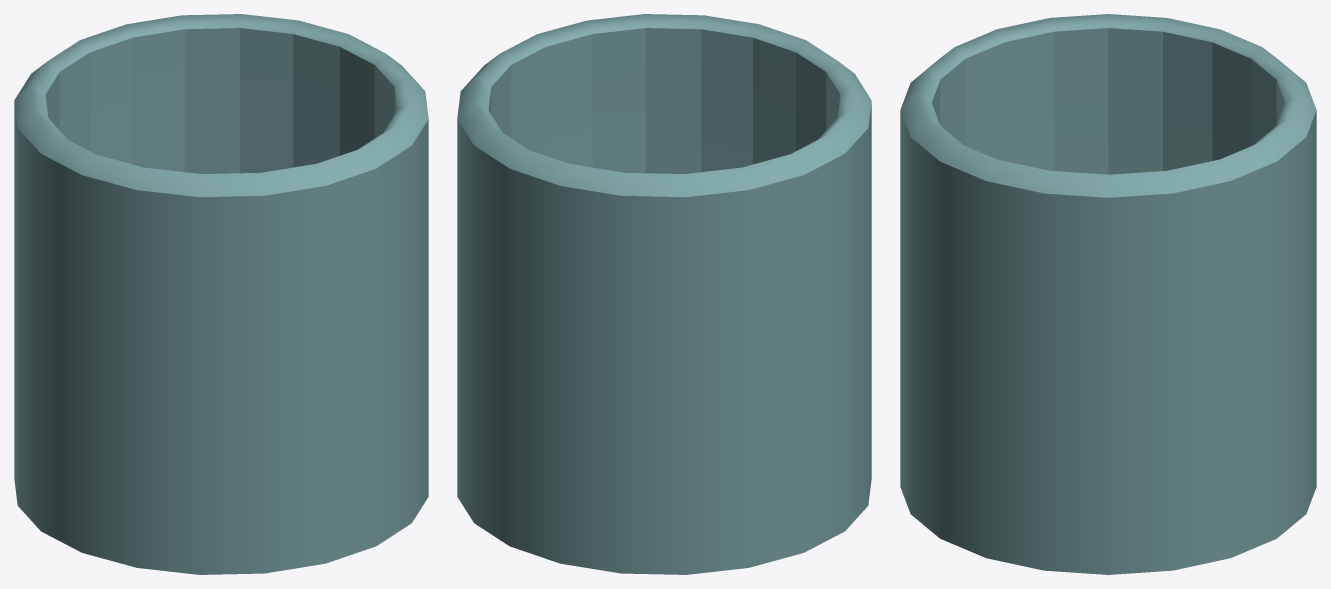
Rendered from Glas1Materialcolored.fbx.
3 views of the same model, side by side, from view 1: azimuth 30°, elevation 25°; view 2: azimuth 150°, elevation 25°; view 3: azimuth 270°, elevation 25° (orthographic).
Visible parts, largest first — view 1: pCylinder1; view 2: pCylinder1; view 3: pCylinder1.
Part boxes in pixels (x1=…): pCylinder1: x1=14, y1=14, x2=428, y2=574; pCylinder1: x1=457, y1=14, x2=871, y2=574; pCylinder1: x1=900, y1=14, x2=1316, y2=574.
Size of the model in its own units: 4.14 by 4.31 by 4.14.
